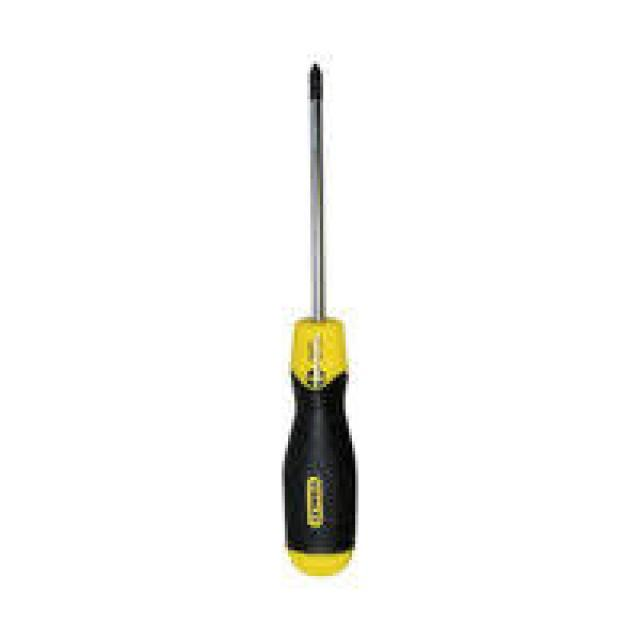screwdriver: (278, 51, 358, 586)
